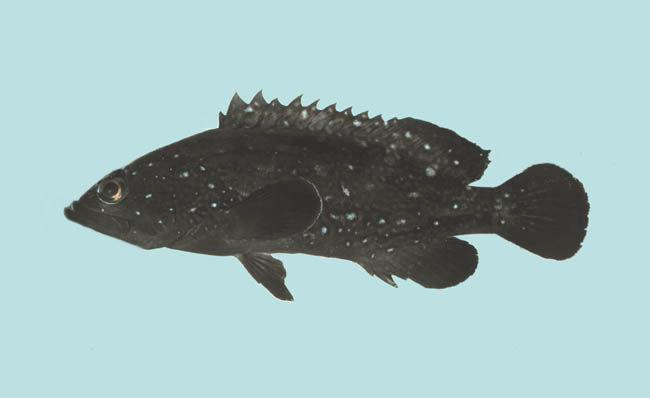fish: (64, 90, 591, 302)
